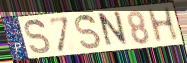7: (50, 15, 70, 54)
8: (126, 9, 152, 46)
H: (145, 6, 181, 45)
N: (98, 9, 130, 50)
S: (74, 13, 103, 51), (24, 18, 52, 55)
